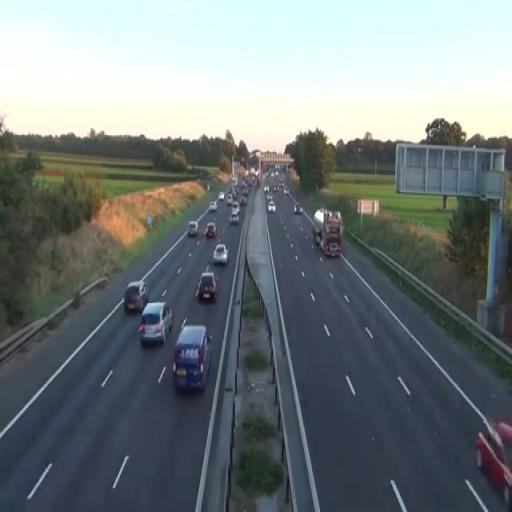Car: (172, 319, 212, 394), (139, 302, 173, 346), (124, 280, 148, 313), (196, 272, 218, 302), (212, 243, 230, 266), (204, 222, 218, 239), (188, 220, 198, 238), (230, 212, 239, 226), (208, 200, 218, 212)
Truck: (313, 208, 342, 258)
